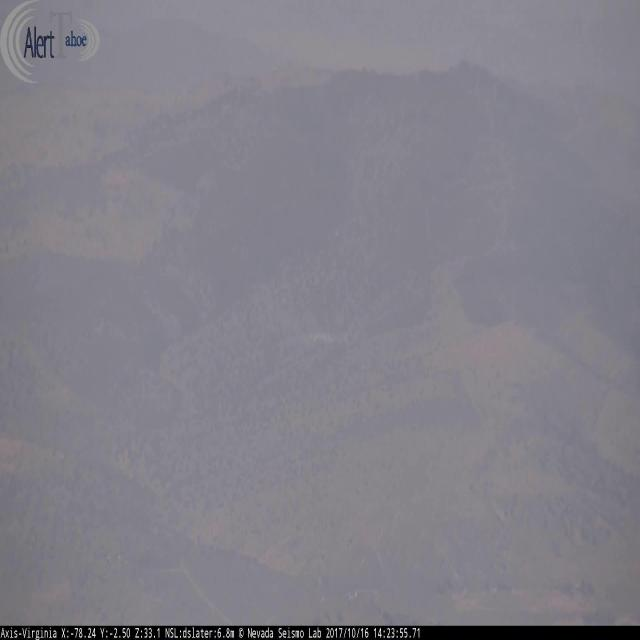smoke: (278, 317, 352, 343)
